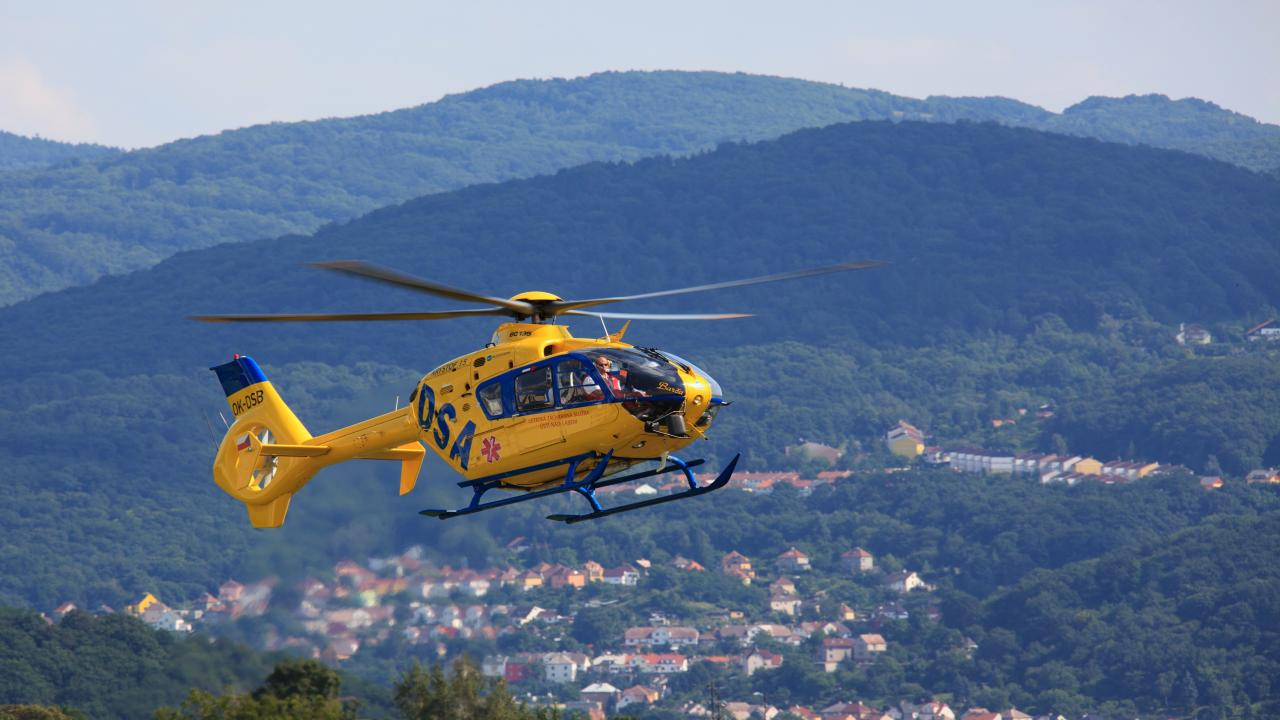Helicopter: (148, 220, 888, 572)
